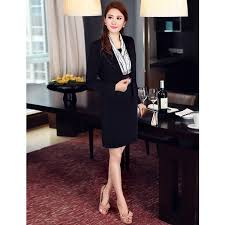F_tailored skirt: (97, 102, 139, 149)
S_business casual jacket: (81, 34, 147, 110)
